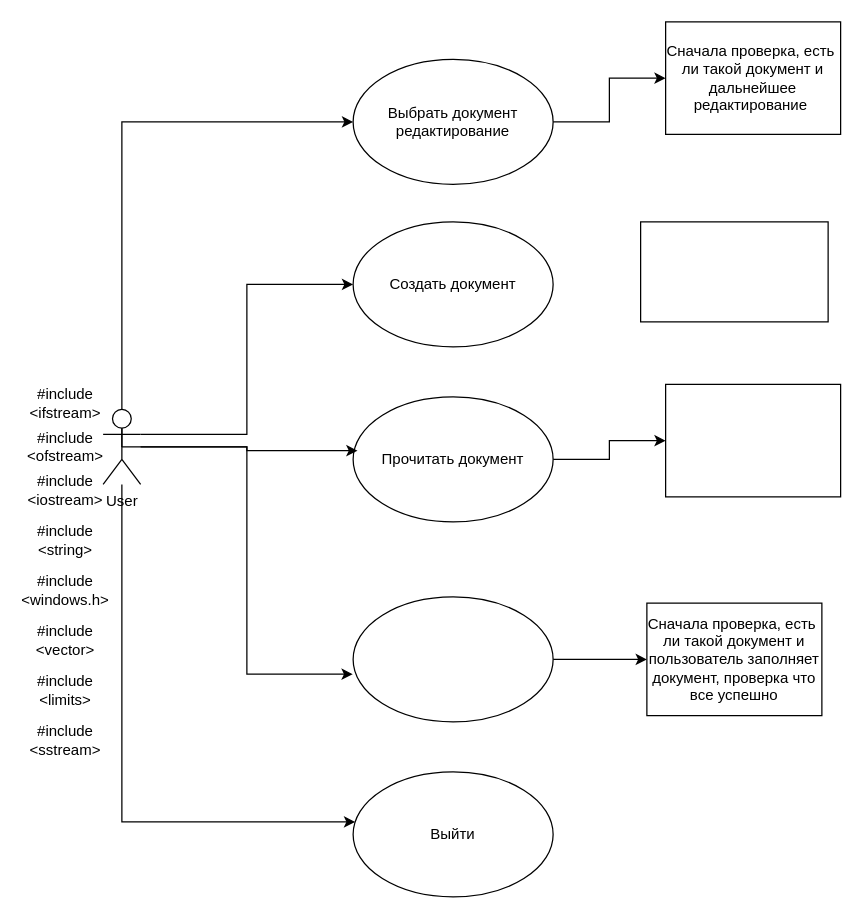
This 863x919 diagram has some shape labels left out. Each missing label, with the centre of its shape:
"Заполнить документ" goes at pixel 452 659.
"Сначала проверка, есть ли такой документ и вывод содержимого" goes at pixel 752 440.
"Создание документа, проверки создался ли документ" goes at pixel 733 271.
